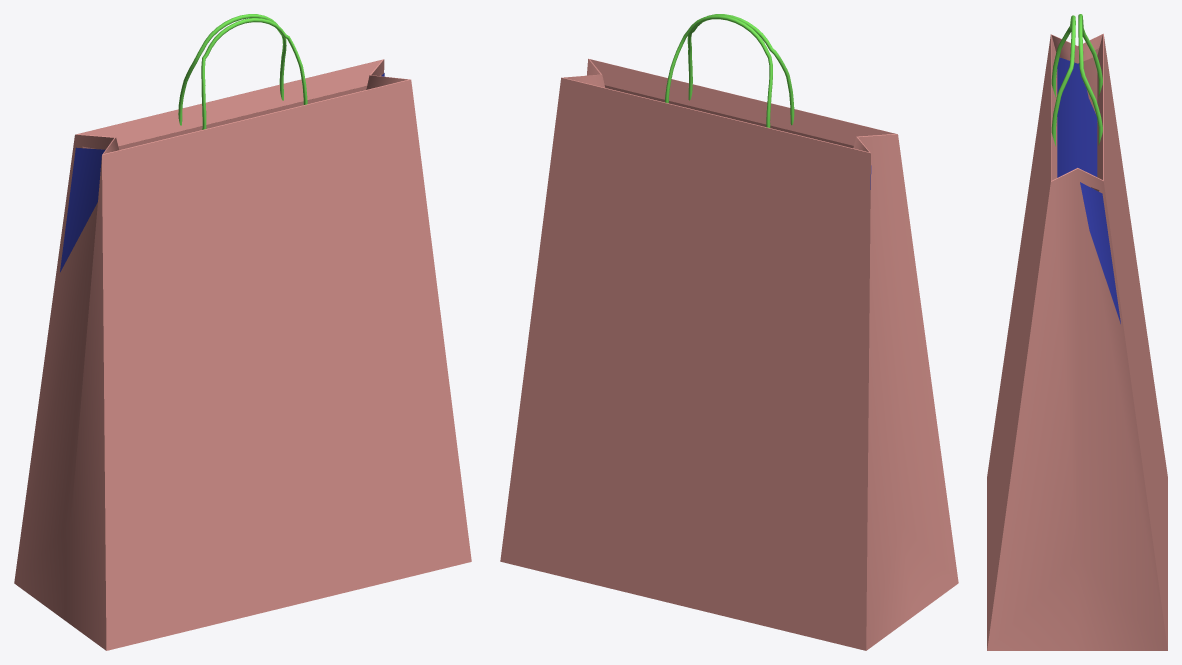
Rendered from ShoppingBag.fbx.
3 renders of one model, left to right at view 1: azimuth 30°, elevation 25°; view 2: azimuth 150°, elevation 25°; view 3: azimuth 270°, elevation 25°, orthographic. The views are drawn at different scales.
Visible parts, largest first — view 1: Renova_Shopping_Bag; view 2: Renova_Shopping_Bag; view 3: Renova_Shopping_Bag.
Part boxes in pixels (left/top/right/bottom): Renova_Shopping_Bag: left=14, top=14, right=471, bottom=650; Renova_Shopping_Bag: left=500, top=14, right=958, bottom=650; Renova_Shopping_Bag: left=987, top=14, right=1167, bottom=650.
Size of the model in its own units: 3200 by 4654 by 1400.
